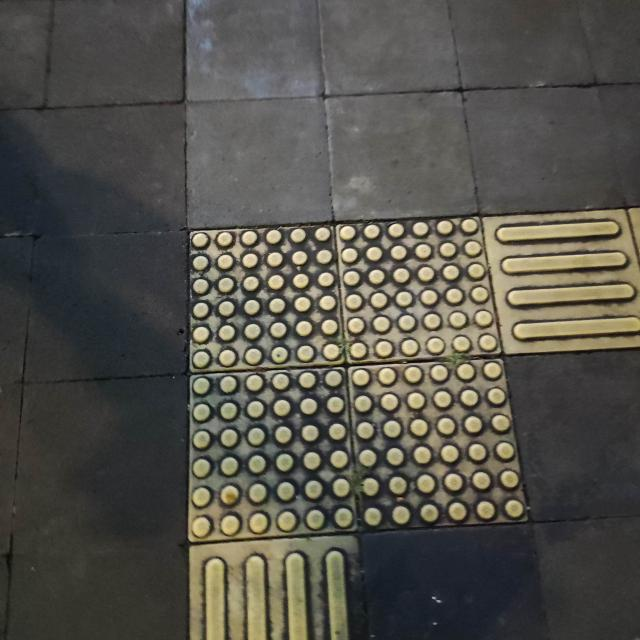kanan: (123, 149, 640, 595)
